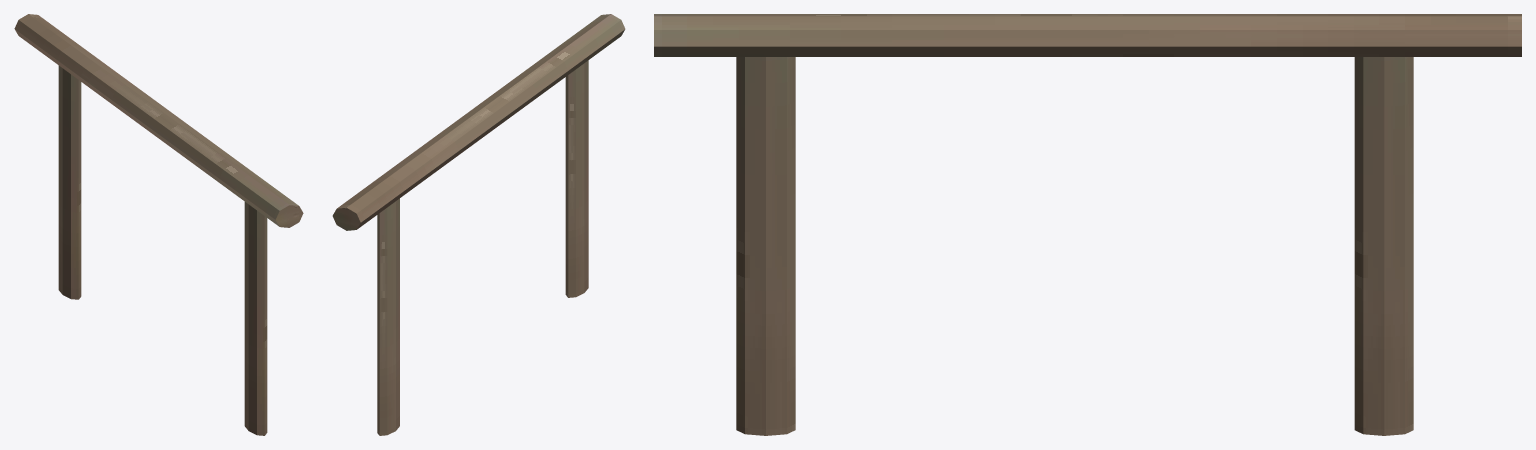
File: standbottle.glb
3 views of the same model, side by side, from view 1: azimuth 30°, elevation 25°; view 2: azimuth 150°, elevation 25°; view 3: azimuth 270°, elevation 25° (orthographic). The views are drawn at different scales.
Parts seen in each view (by area): view 1: standbottle; view 2: standbottle; view 3: standbottle.
Part boxes in pixels (x1,y1,x2,y2): standbottle: (14,14,303,435); standbottle: (332,14,625,435); standbottle: (654,14,1521,435).
Bounding box in the file's own units: 0.1235 × 1.05 × 2.
Materials: 1 (1 with a texture image).
